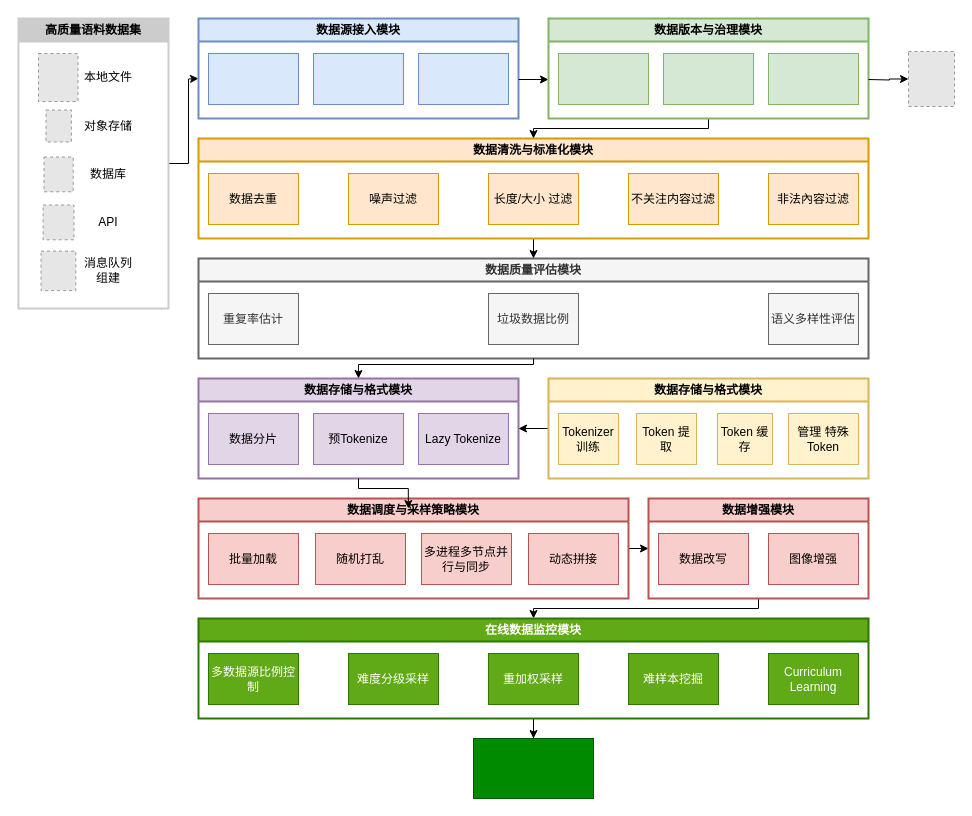
The diagram is 972 pixels wide and 816 high, and some of its shapes have lost their labels. Grey dashed boxes stand in for pictures. The centre of each missing label's shape, as x and y in pixels:
"批量导入" belongs at pixel 253 78.
"数据集版本管理" belongs at pixel 603 78.
"模型训练" belongs at pixel 533 768.
"流式导入" belongs at pixel 358 78.
"统一格式抽象" belongs at pixel 463 78.
"训练数据集回滚" belongs at pixel 813 78.
"训练数据集快照" belongs at pixel 708 78.
